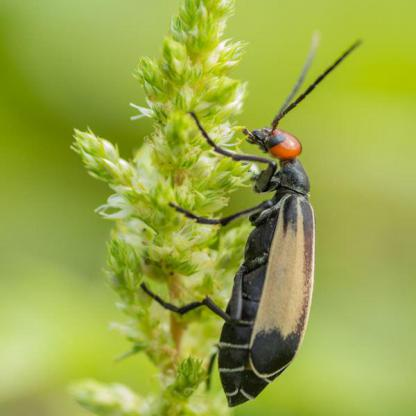blister beetle: (143, 36, 362, 411)
